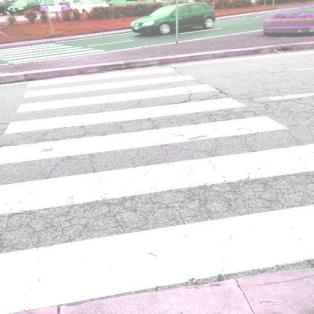Paso de Cebra: (4, 78, 249, 137)
